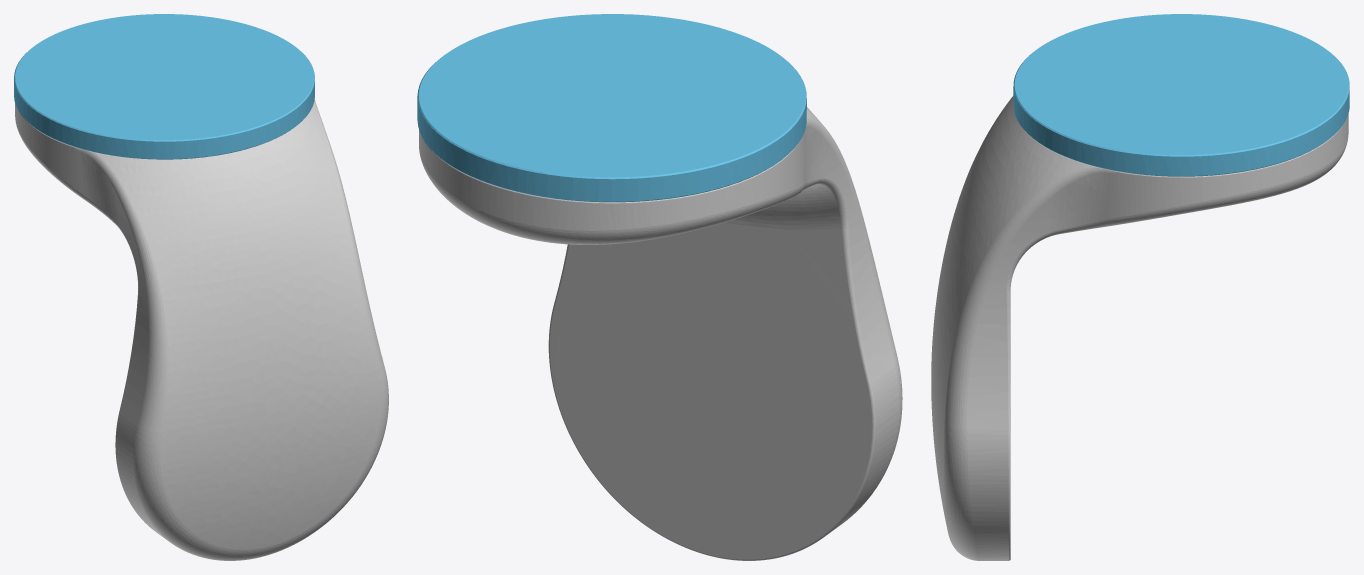
3 renders of one model, left to right at view 1: azimuth 30°, elevation 25°; view 2: azimuth 150°, elevation 25°; view 3: azimuth 270°, elevation 25°, orthographic. The views are drawn at different scales.
Visible parts, largest first — view 1: Untitled_010; view 2: Untitled_010; view 3: Untitled_010.
Part boxes in pixels (bbox=[...]): Untitled_010: bbox=[14, 14, 388, 560]; Untitled_010: bbox=[417, 14, 902, 560]; Untitled_010: bbox=[931, 14, 1349, 560].
Size of the model in its own units: 0.0846 by 0.1053 by 0.128.
